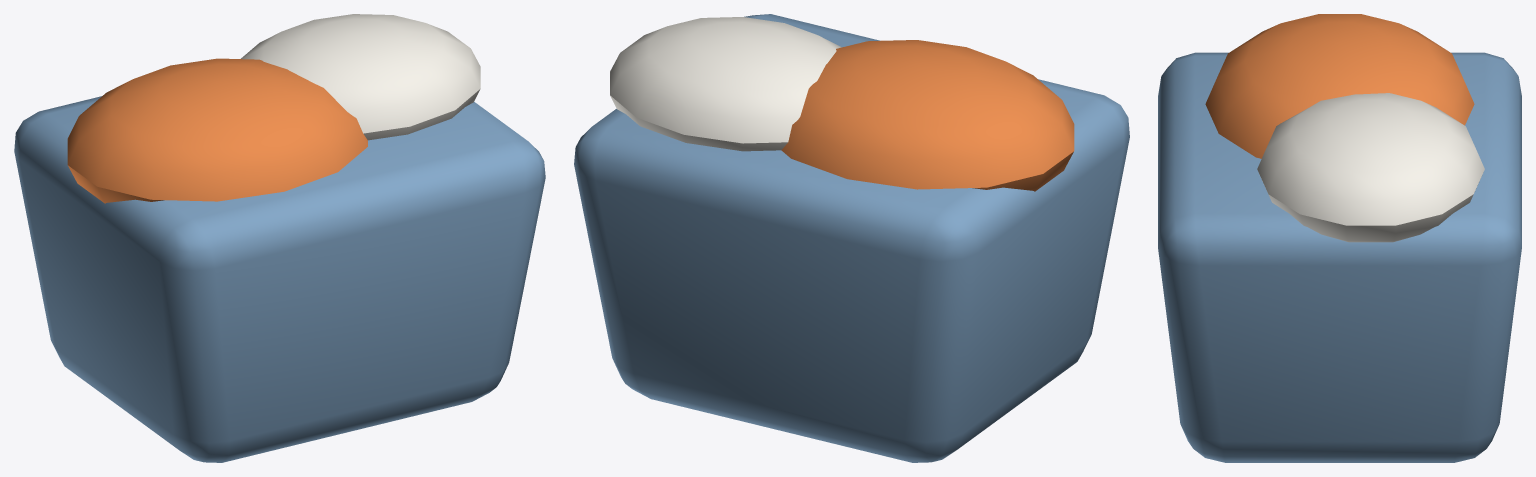
The model's file is laundry_basket.glb.
3 views of the same model, side by side, from view 1: azimuth 30°, elevation 25°; view 2: azimuth 150°, elevation 25°; view 3: azimuth 270°, elevation 25° (orthographic). The views are drawn at different scales.
Visible parts, largest first — view 1: plastic, uniform, sheet; view 2: plastic, uniform, sheet; view 3: plastic, sheet, uniform.
Boxes of the visible parts, left/top/right/bottom form: plastic: left=14, top=96, right=545, bottom=462; uniform: left=67, top=58, right=367, bottom=203; sheet: left=241, top=14, right=480, bottom=140; plastic: left=574, top=14, right=1129, bottom=462; uniform: left=781, top=40, right=1074, bottom=191; sheet: left=610, top=17, right=841, bottom=151; plastic: left=1158, top=52, right=1521, bottom=462; sheet: left=1257, top=93, right=1484, bottom=242; uniform: left=1205, top=14, right=1474, bottom=158.
Bounding box in the file's own units: 0.4508 × 0.345 × 0.3515.
